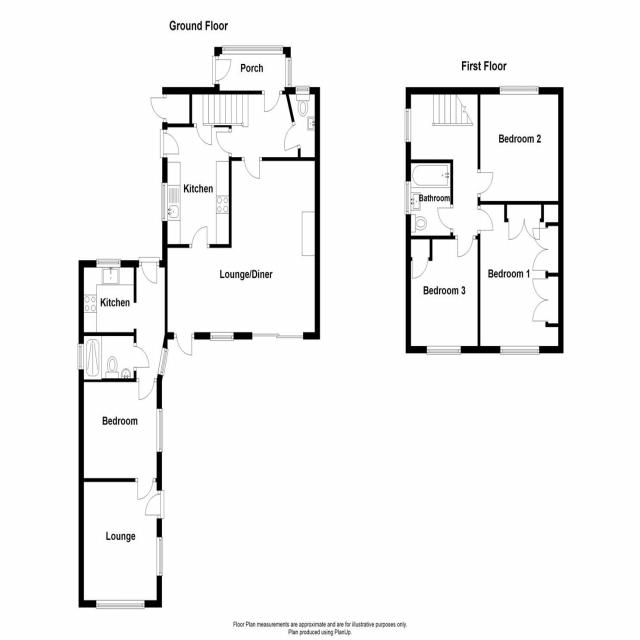DOOR: (145, 490, 165, 519), (160, 129, 180, 158), (139, 257, 160, 284), (284, 120, 301, 152), (173, 332, 195, 356), (477, 168, 494, 198), (261, 90, 283, 113), (133, 342, 150, 371), (455, 235, 476, 258), (135, 478, 156, 501), (477, 205, 493, 234), (437, 204, 453, 233), (216, 128, 232, 157), (241, 157, 262, 179), (189, 226, 210, 248), (136, 378, 157, 400), (194, 123, 214, 145)
ROOM: (162, 157, 320, 356), (477, 201, 564, 355), (78, 478, 165, 609), (477, 85, 564, 205), (78, 378, 163, 500), (160, 122, 232, 248), (405, 235, 480, 355), (78, 259, 137, 336)
WINDOW: (96, 599, 145, 609), (499, 85, 540, 96), (157, 346, 169, 378), (500, 346, 540, 355), (426, 345, 461, 354), (156, 408, 163, 453), (404, 107, 412, 143), (156, 537, 163, 577), (161, 182, 168, 222), (404, 180, 411, 216), (96, 258, 121, 268), (210, 331, 234, 341), (77, 343, 84, 371), (295, 85, 310, 95)
